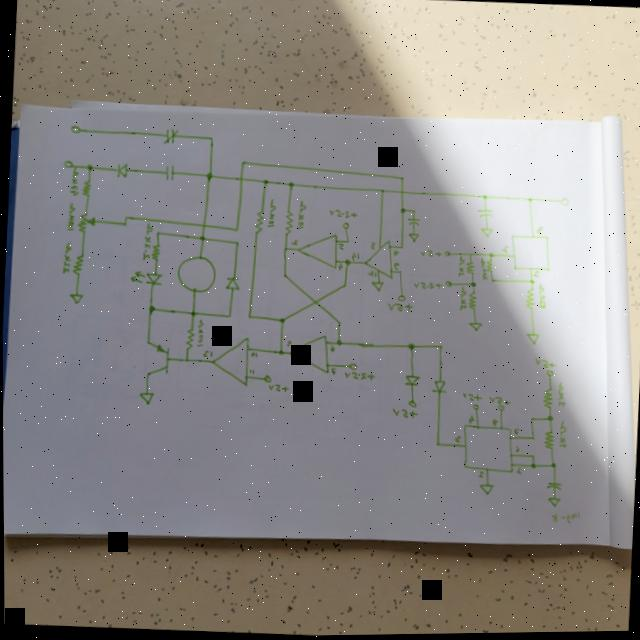capacitor: (475, 207, 493, 220), (543, 482, 561, 494), (405, 217, 420, 228)
crossover: (309, 297, 319, 307), (236, 175, 244, 182), (199, 222, 206, 228), (399, 190, 405, 196)
diode: (127, 268, 162, 287), (113, 161, 130, 180), (429, 379, 447, 395), (223, 276, 240, 291), (402, 375, 420, 388)
ground: (137, 390, 154, 405), (476, 482, 493, 496), (67, 291, 84, 304), (523, 333, 540, 346), (466, 320, 482, 333), (544, 497, 561, 509), (369, 280, 384, 293), (406, 232, 419, 243), (479, 227, 492, 238)
inductor: (174, 254, 217, 294)
junction: (85, 161, 94, 171), (147, 304, 156, 313), (406, 342, 415, 350), (546, 415, 554, 424), (334, 339, 343, 347), (206, 172, 214, 180), (525, 196, 533, 204), (287, 180, 295, 188), (261, 177, 269, 185), (277, 316, 285, 324), (188, 309, 196, 317), (197, 234, 205, 242), (276, 348, 284, 356), (119, 220, 127, 227), (549, 462, 556, 469), (225, 312, 232, 319), (208, 134, 215, 141), (529, 462, 536, 469), (335, 319, 342, 326), (182, 356, 189, 363), (480, 194, 488, 200), (469, 282, 477, 288), (245, 313, 252, 319), (434, 441, 441, 447), (281, 272, 287, 279), (341, 282, 347, 289), (399, 207, 405, 214), (233, 240, 239, 246), (437, 343, 443, 349), (239, 159, 245, 165), (233, 226, 239, 232), (529, 435, 535, 441), (399, 175, 405, 181), (528, 417, 534, 423), (281, 246, 287, 252), (379, 188, 385, 194), (154, 230, 160, 236), (488, 253, 494, 259), (345, 259, 351, 265), (528, 280, 534, 284), (489, 279, 494, 283), (468, 253, 472, 257), (124, 215, 128, 219), (399, 245, 403, 249), (411, 209, 415, 213), (530, 454, 534, 458)
resistor: (77, 208, 96, 233), (71, 251, 85, 276), (541, 430, 556, 451), (253, 210, 266, 234), (283, 207, 294, 235), (524, 285, 535, 311), (542, 387, 553, 412), (183, 327, 195, 349), (82, 178, 93, 198), (150, 242, 161, 260), (467, 291, 476, 311), (464, 260, 475, 276), (485, 260, 494, 274)
switch: (162, 125, 179, 145), (162, 162, 176, 182)
terminal: (69, 123, 82, 134), (63, 158, 74, 168), (261, 373, 271, 383), (347, 361, 357, 371), (406, 400, 416, 410), (396, 294, 406, 302), (545, 370, 553, 378), (444, 280, 452, 288), (560, 198, 568, 206), (442, 251, 451, 258), (496, 405, 505, 412)
text: (139, 221, 154, 262), (549, 510, 581, 527), (60, 239, 74, 274), (63, 195, 77, 230), (66, 169, 80, 202), (327, 207, 358, 221), (294, 200, 307, 233), (343, 370, 375, 383), (265, 198, 278, 229), (386, 301, 413, 314), (194, 318, 206, 347), (412, 280, 442, 291), (390, 408, 417, 420), (556, 422, 568, 448), (536, 283, 547, 311), (532, 358, 556, 370), (555, 382, 566, 408), (487, 394, 510, 406), (266, 382, 288, 393), (460, 392, 480, 404), (458, 287, 467, 312), (478, 257, 487, 281), (419, 249, 442, 258), (456, 256, 465, 278), (349, 249, 361, 261), (201, 348, 213, 358), (340, 221, 350, 231), (513, 466, 523, 476), (465, 415, 475, 425), (366, 270, 377, 279), (249, 351, 258, 359), (453, 434, 461, 443), (511, 427, 519, 436), (336, 262, 344, 271), (284, 340, 292, 348), (490, 418, 498, 426), (470, 403, 478, 411), (500, 246, 509, 253), (247, 368, 254, 376), (329, 367, 336, 375), (476, 471, 483, 479), (290, 238, 298, 245), (369, 241, 375, 250), (393, 262, 399, 271), (338, 241, 343, 251), (392, 249, 399, 256), (532, 270, 539, 277), (329, 345, 335, 353), (513, 446, 519, 454), (536, 226, 542, 234)
transistor: (143, 340, 171, 379)
